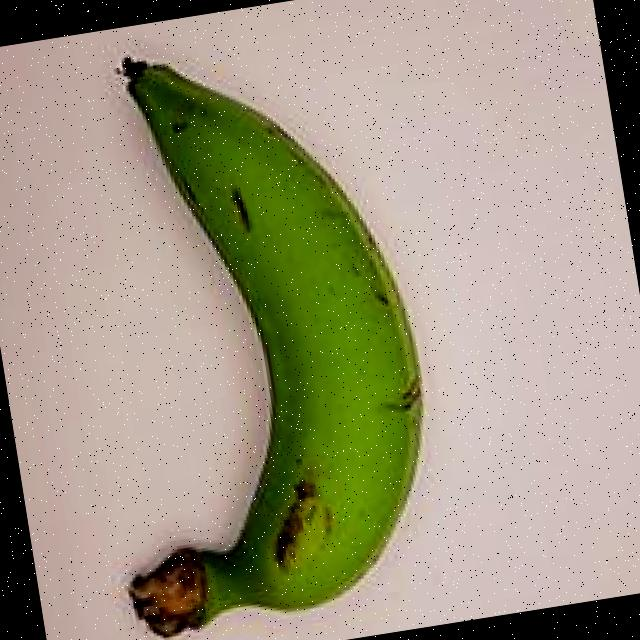Raw: (31, 5, 476, 640)
